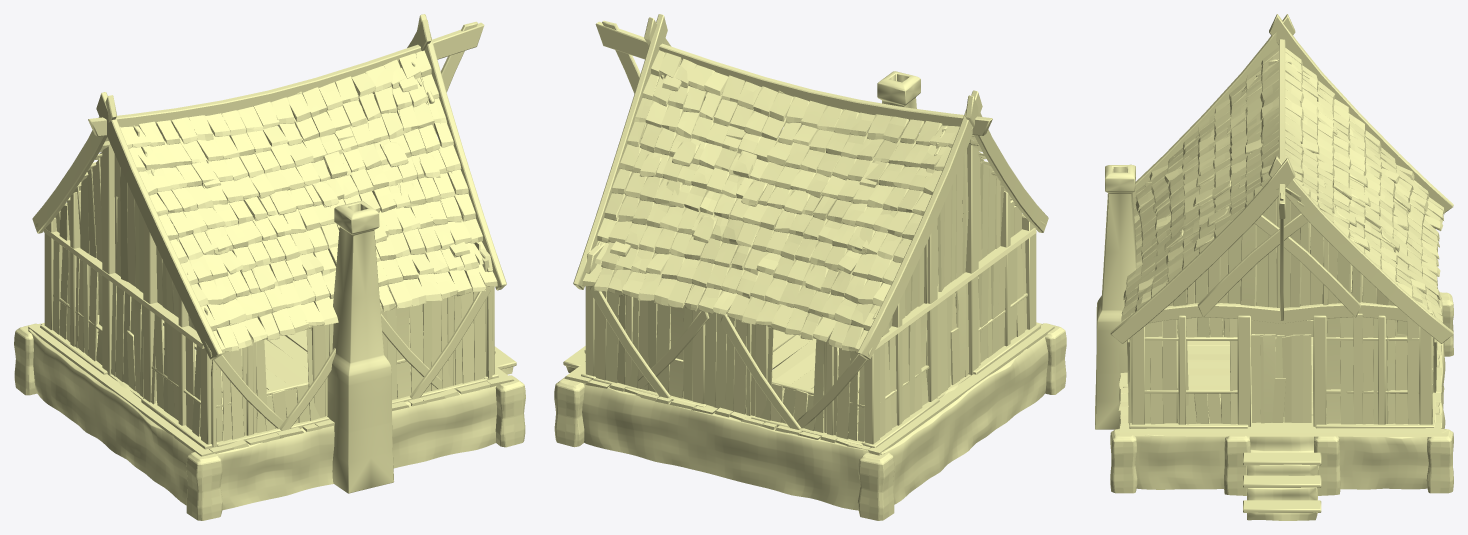
File: MangaKa Props - PF_MedieHouses_House_01.glb
The picture shows the model from 3 angles, left to right: view 1: azimuth 30°, elevation 25°; view 2: azimuth 150°, elevation 25°; view 3: azimuth 270°, elevation 25°; orthographic projection. The views are drawn at different scales.
Parts seen in each view (by area): view 1: PF_MedieHouses_Roof_01_blueScreen, PF_MedieHouses_Wall_01_blueScreen, PF_MedieHouses_House_01_blueScreen, PF_MedieHouses_Chibney_01_blueScreen, PF_MedieHouses_RoofFrame_01_blueScreen, PF_MedieHouses_Wall_02_blueScreen, PF_MedieHouses_Floor_01_blueScreen, PF_MedieHouses_Roof_02_blueScreen, PF_MedieHouses_Wall_03_blueScreen, PF_MedieHouses_Ceilling_01_blueScreen; view 2: PF_MedieHouses_Roof_01_blueScreen, PF_MedieHouses_Wall_01_blueScreen, PF_MedieHouses_House_01_blueScreen, PF_MedieHouses_Wall_02_blueScreen, PF_MedieHouses_RoofFrame_01_blueScreen, PF_MedieHouses_Floor_01_blueScreen, PF_MedieHouses_Wall_03_blueScreen, PF_MedieHouses_Roof_02_blueScreen, PF_MedieHouses_Ceilling_01_blueScreen, PF_MedieHouses_Chibney_01_blueScreen; view 3: PF_MedieHouses_Roof_01_blueScreen, PF_MedieHouses_Wall_01_blueScreen, PF_MedieHouses_RoofFrame_01_blueScreen, PF_MedieHouses_House_01_blueScreen, PF_MedieHouses_Wall_02_blueScreen, PF_MedieHouses_Chibney_01_blueScreen, PF_MedieHouses_Floor_01_blueScreen, PF_MedieHouses_Door_01_blueScreen, PF_MedieHouses_Staircase_01_blueScreen, PF_MedieHouses_Roof_02_blueScreen.
Part boxes in pixels (x1,y1,x2,y2): PF_MedieHouses_Roof_01_blueScreen: (35,50,497,356); PF_MedieHouses_Wall_01_blueScreen: (53,61,492,446); PF_MedieHouses_House_01_blueScreen: (14,323,525,520); PF_MedieHouses_Chibney_01_blueScreen: (327,200,393,493); PF_MedieHouses_RoofFrame_01_blueScreen: (32,14,506,360); PF_MedieHouses_Wall_02_blueScreen: (40,140,498,449); PF_MedieHouses_Floor_01_blueScreen: (28,310,514,456); PF_MedieHouses_Roof_02_blueScreen: (202,67,470,291); PF_MedieHouses_Wall_03_blueScreen: (213,287,490,430); PF_MedieHouses_Ceilling_01_blueScreen: (43,228,465,348); PF_MedieHouses_Roof_01_blueScreen: (582,50,1045,356); PF_MedieHouses_Wall_01_blueScreen: (594,75,1026,441); PF_MedieHouses_House_01_blueScreen: (554,323,1066,520); PF_MedieHouses_Wall_02_blueScreen: (581,139,1040,447); PF_MedieHouses_RoofFrame_01_blueScreen: (573,14,1048,359); PF_MedieHouses_Floor_01_blueScreen: (564,314,1054,455); PF_MedieHouses_Wall_03_blueScreen: (589,286,956,429); PF_MedieHouses_Roof_02_blueScreen: (609,67,878,290); PF_MedieHouses_Ceilling_01_blueScreen: (614,228,1036,349); PF_MedieHouses_Chibney_01_blueScreen: (877,71,920,108); PF_MedieHouses_Roof_01_blueScreen: (1121,47,1444,323); PF_MedieHouses_Wall_01_blueScreen: (1129,59,1433,424); PF_MedieHouses_RoofFrame_01_blueScreen: (1110,14,1453,343); PF_MedieHouses_House_01_blueScreen: (1110,292,1453,520); PF_MedieHouses_Wall_02_blueScreen: (1128,86,1435,428); PF_MedieHouses_Chibney_01_blueScreen: (1095,164,1136,429); PF_MedieHouses_Floor_01_blueScreen: (1118,292,1441,436); PF_MedieHouses_Door_01_blueScreen: (1250,334,1311,423); PF_MedieHouses_Staircase_01_blueScreen: (1243,320,1321,512); PF_MedieHouses_Roof_02_blueScreen: (1141,117,1422,303).
Size of the model in its own units: 13.98 by 11.91 by 11.58.
